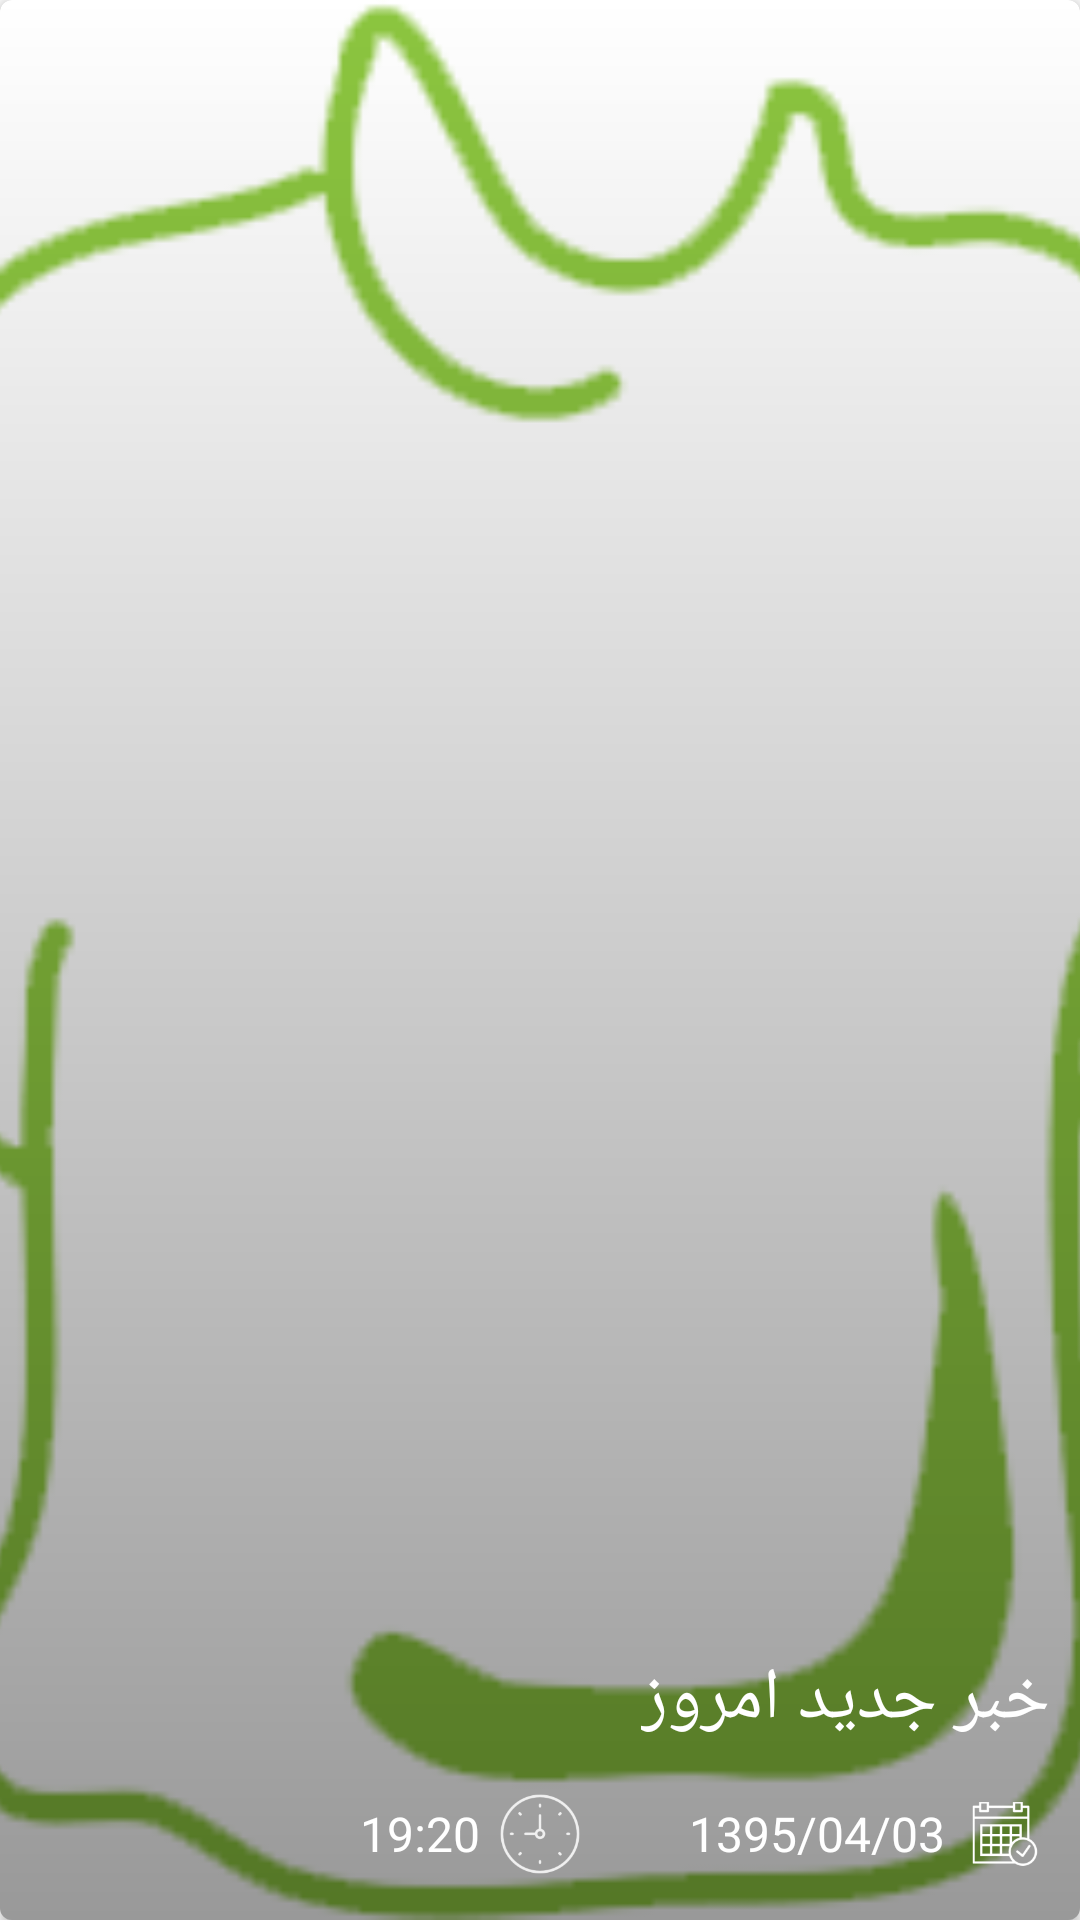

Where to tap for icons on this 1080*1920 app screen, as (x,y):
calender: (1005,1834)
time: (540,1833)
